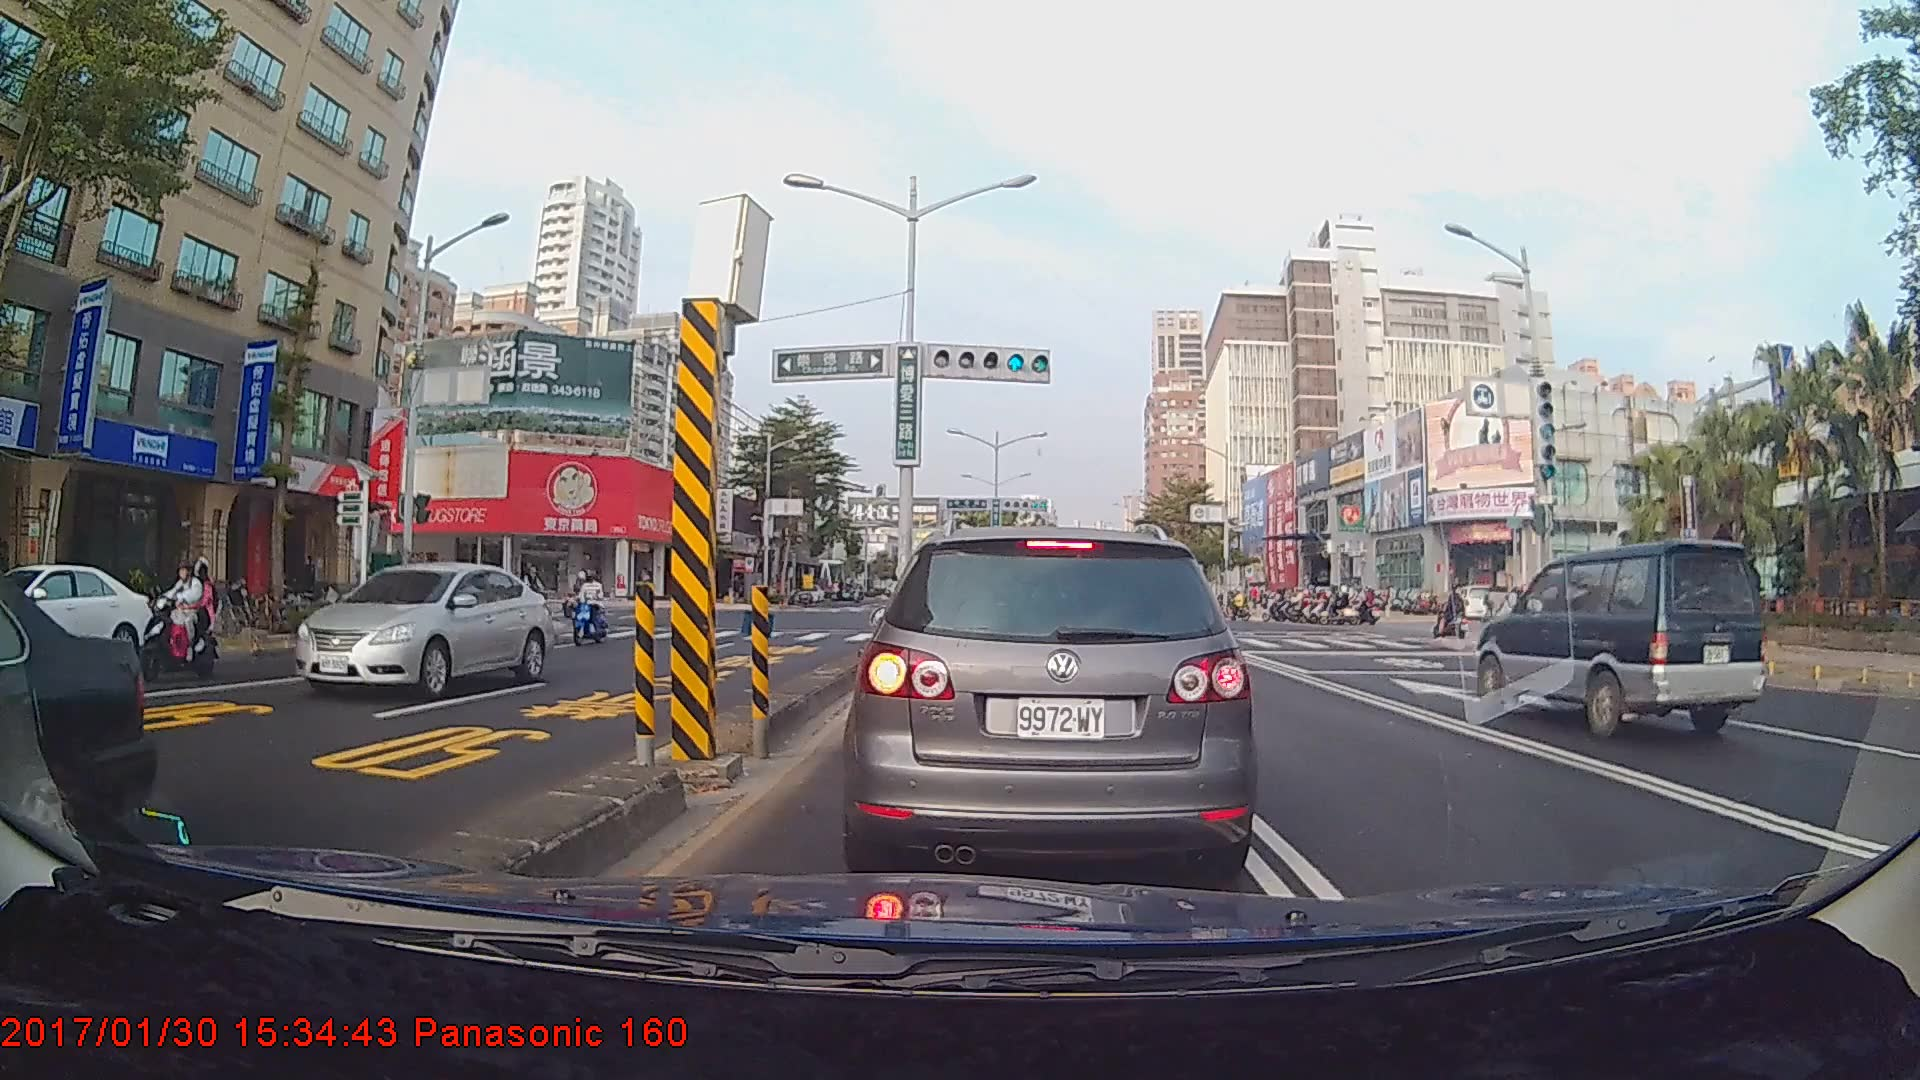rider: (565, 563, 614, 646), (1436, 582, 1473, 646)
vehicle: (856, 524, 1248, 877), (0, 534, 160, 944), (1471, 536, 1767, 737), (286, 563, 559, 696), (0, 561, 157, 671)
